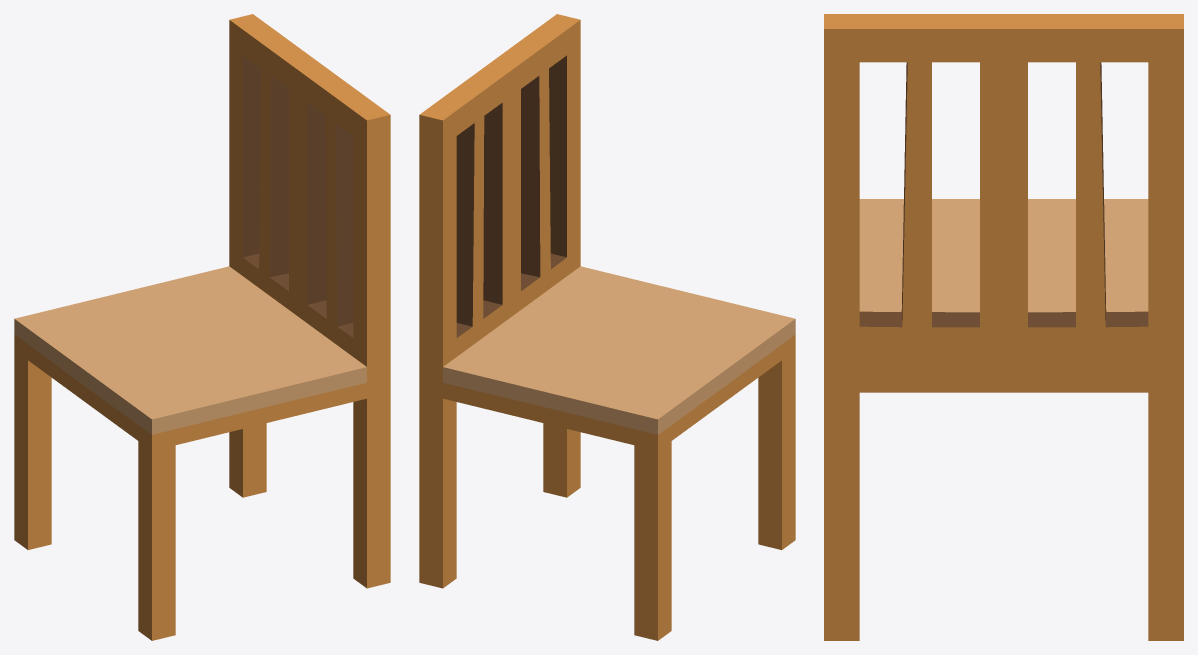
The model's file is Stuhl.fbx.
The picture shows the model from 3 angles, left to right: view 1: azimuth 30°, elevation 25°; view 2: azimuth 150°, elevation 25°; view 3: azimuth 270°, elevation 25°; orthographic projection. The views are drawn at different scales.
Parts seen in each view (by area): view 1: Cube; view 2: Cube; view 3: Cube.
Part boxes in pixels (x1=…): Cube: x1=14, y1=14, x2=390, y2=640; Cube: x1=419, y1=14, x2=795, y2=640; Cube: x1=824, y1=14, x2=1183, y2=640.
Size of the model in its own units: 399 by 748 by 399.
